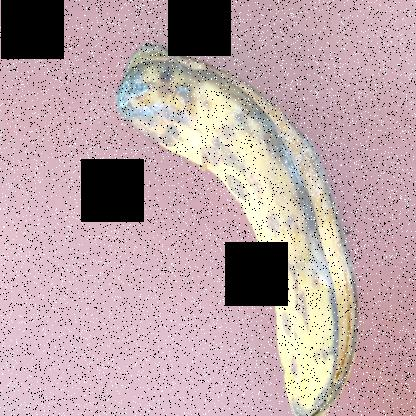rotten: (107, 32, 374, 415)
